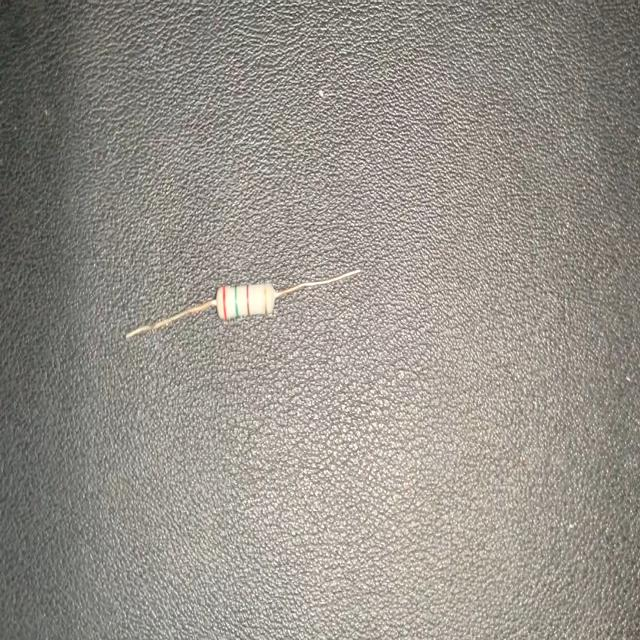resistor: (121, 266, 362, 348)
